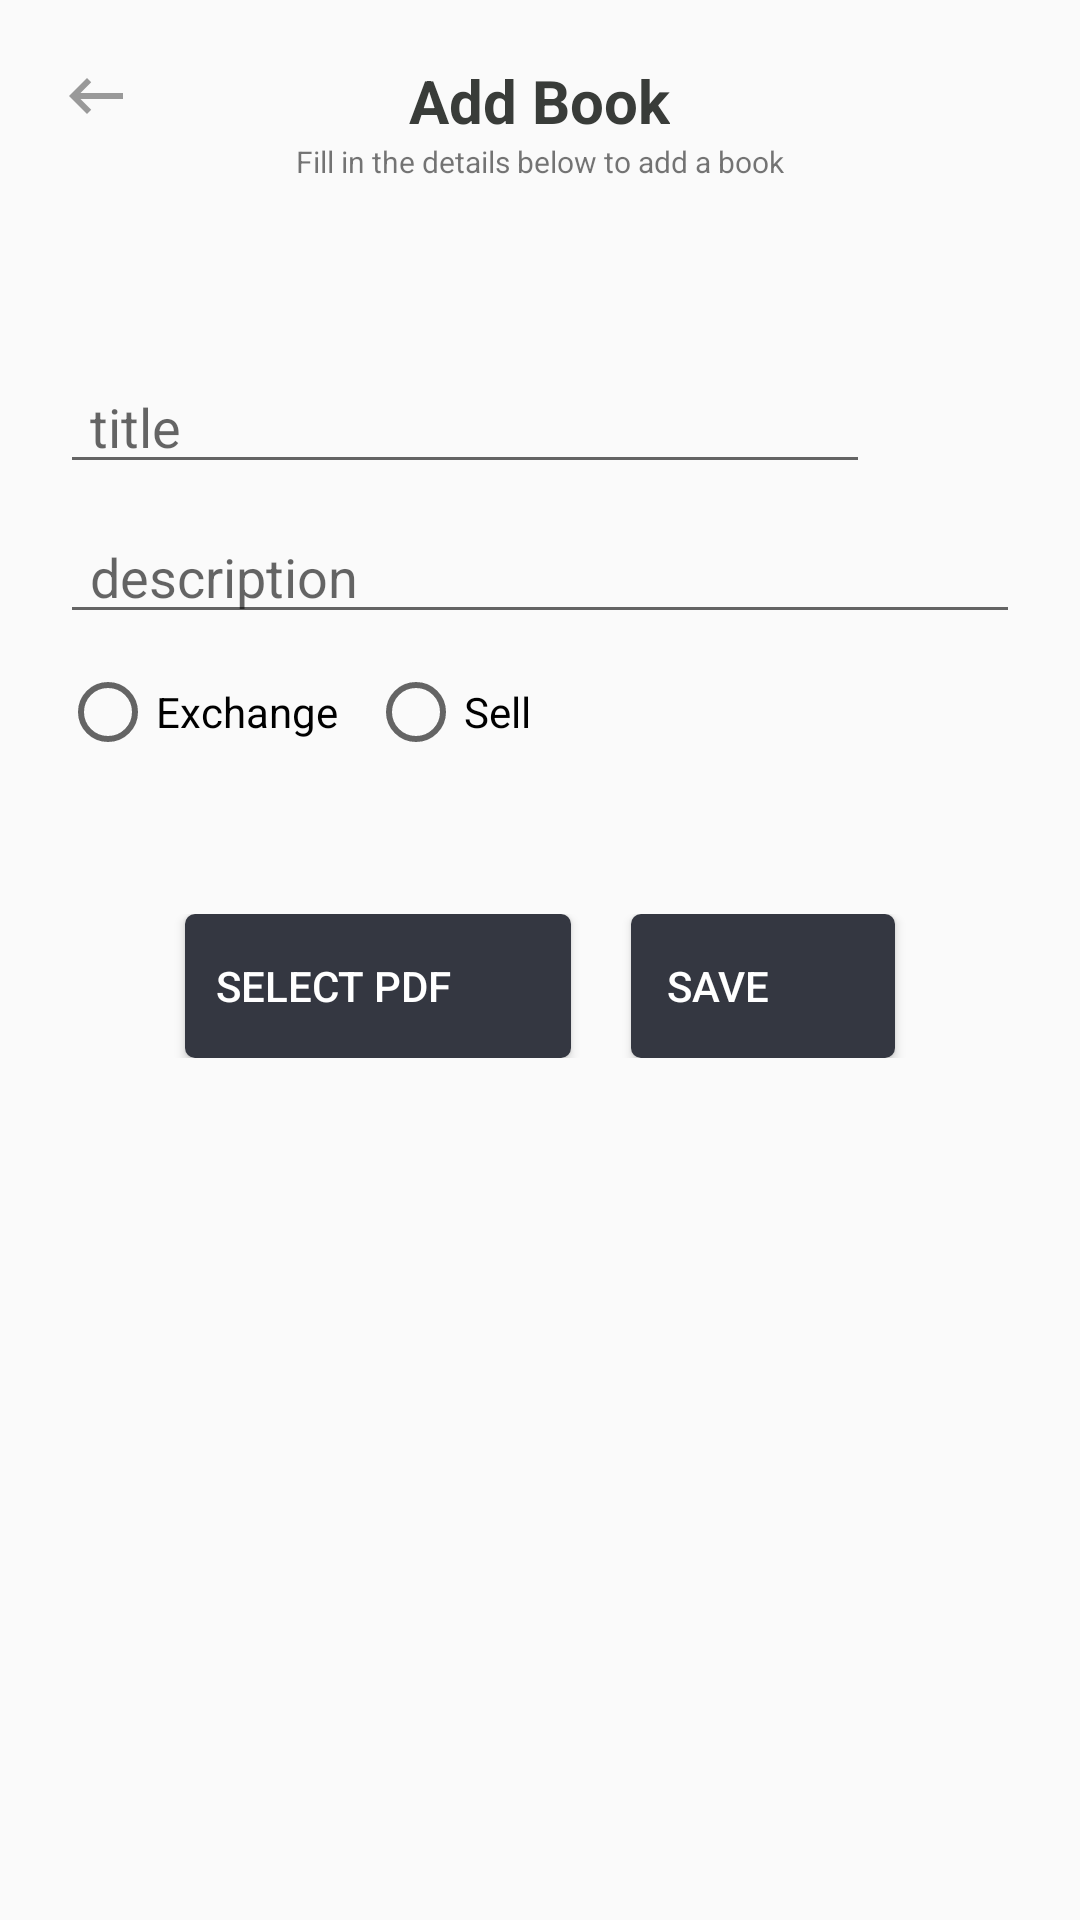

Icon click points for this 1080px×1920px phone screenshot, format (x,y):
keyboard backspace: (96,96)
